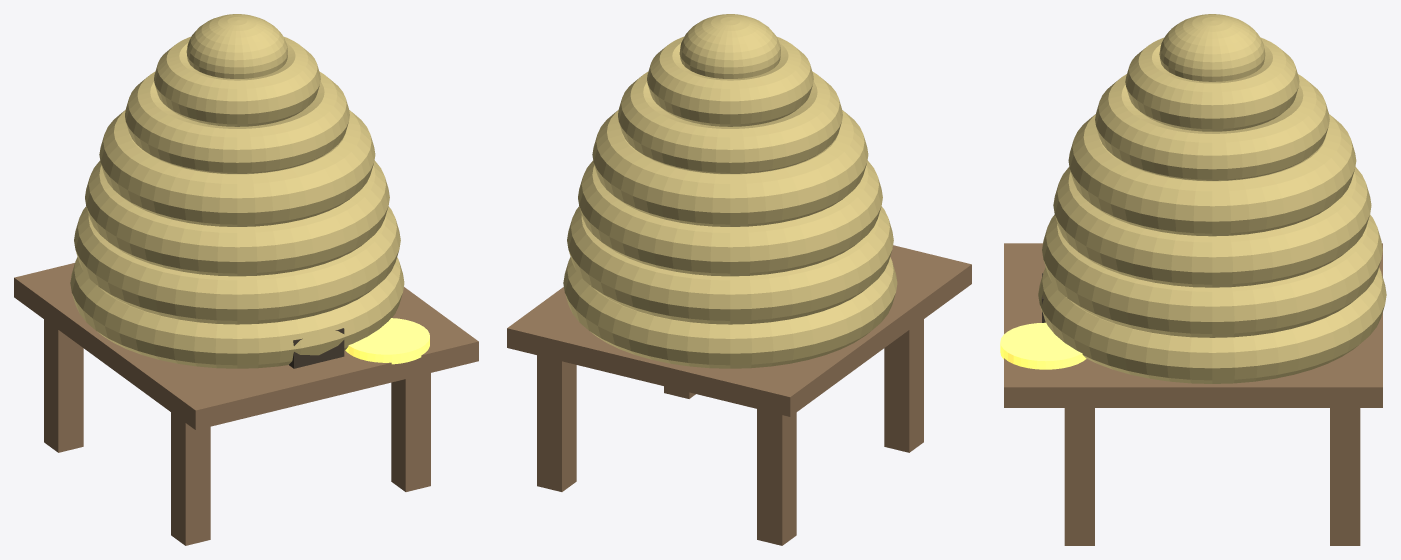
File: beehive_skep.glb
3 renders of one model, left to right at view 1: azimuth 30°, elevation 25°; view 2: azimuth 150°, elevation 25°; view 3: azimuth 270°, elevation 25°, orthographic. The views are drawn at different scales.
Visible parts, largest first — view 1: Cube.004, Torus.001, Torus.003, Torus.002, Torus, Torus.004, Torus.005, Sphere, Cube, Cube.001, Cube.002, Cylinder (+1 smaller); view 2: Cube.004, Torus.001, Torus.003, Torus.002, Torus, Torus.004, Torus.005, Sphere, Cube.001, Cube.003, Cube; view 3: Torus.001, Cube.004, Torus.003, Torus.002, Torus, Torus.004, Torus.005, Sphere, Cube.002, Cube.003, Cylinder.
Part boxes in pixels (x1,y1,x2,y2): Cube.004: [14, 263, 478, 429]; Torus.001: [74, 206, 400, 324]; Torus.003: [99, 110, 375, 226]; Torus.002: [85, 160, 389, 276]; Torus: [70, 257, 404, 368]; Torus.004: [125, 71, 349, 173]; Torus.005: [154, 36, 320, 126]; Sphere: [186, 14, 287, 78]; Cube: [171, 412, 210, 545]; Cube.001: [44, 319, 83, 452]; Cube.002: [391, 373, 430, 491]; Cylinder: [345, 318, 429, 364]; Cube.004: [507, 245, 971, 416]; Torus.001: [567, 206, 893, 324]; Torus.003: [592, 110, 868, 226]; Torus.002: [578, 160, 882, 276]; Torus: [563, 257, 897, 368]; Torus.004: [618, 71, 842, 173]; Torus.005: [647, 36, 813, 126]; Sphere: [679, 14, 780, 78]; Cube.001: [757, 409, 796, 545]; Cube.003: [537, 355, 576, 491]; Cube: [884, 319, 923, 452]; Torus.001: [1042, 214, 1382, 337]; Cube.004: [1004, 243, 1382, 407]; Torus.003: [1068, 114, 1356, 236]; Torus.002: [1053, 167, 1371, 287]; Torus: [1038, 267, 1386, 383]; Torus.004: [1095, 74, 1329, 180]; Torus.005: [1125, 37, 1299, 131]; Sphere: [1159, 14, 1265, 81]; Cube.002: [1064, 408, 1094, 545]; Cube.003: [1330, 408, 1360, 545]; Cylinder: [1000, 322, 1086, 369].
Bounding box in the file's own units: 0.92 × 1.35 × 1.02.
